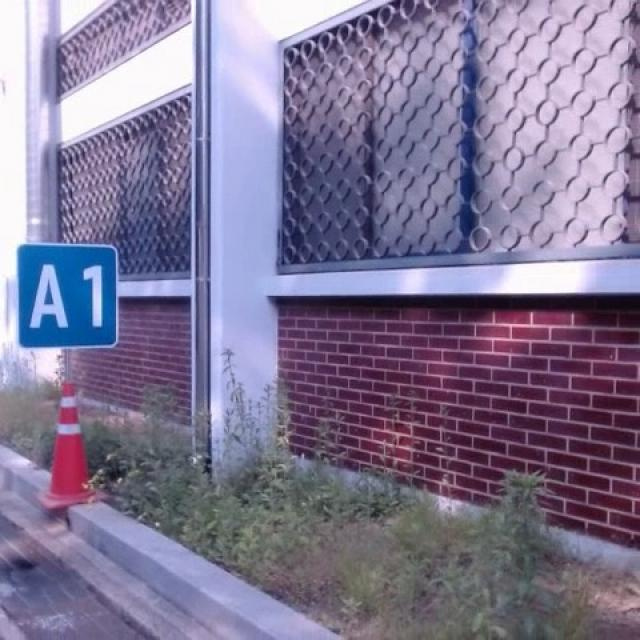a1: (10, 242, 120, 351)
